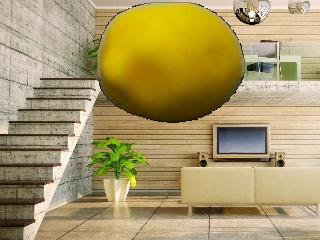lemon: (96, 2, 244, 124)
